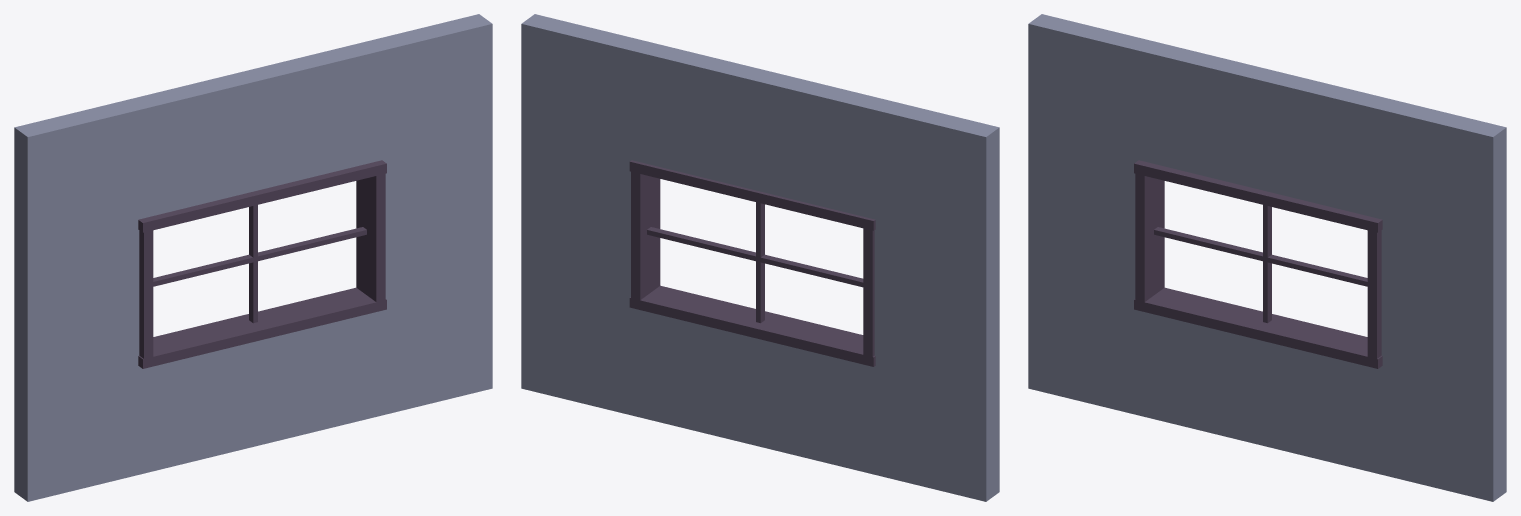
File: gs_wall_window.gltf
The picture shows the model from 3 angles, left to right: view 1: azimuth 30°, elevation 25°; view 2: azimuth 150°, elevation 25°; view 3: azimuth 330°, elevation 25°; orthographic projection.
Parts seen in each view (by area): view 1: gs_wall_window; view 2: gs_wall_window; view 3: gs_wall_window.
Part boxes in pixels (x1=…): gs_wall_window: x1=14, y1=14, x2=492, y2=501; gs_wall_window: x1=521, y1=14, x2=999, y2=501; gs_wall_window: x1=1028, y1=14, x2=1506, y2=501.
Size of the model in its own units: 4 by 3 by 0.3.
